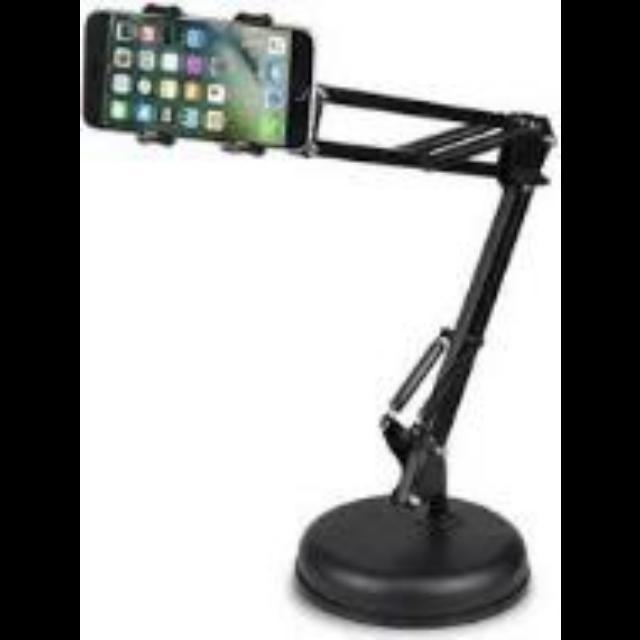Phone: (82, 20, 318, 134)
